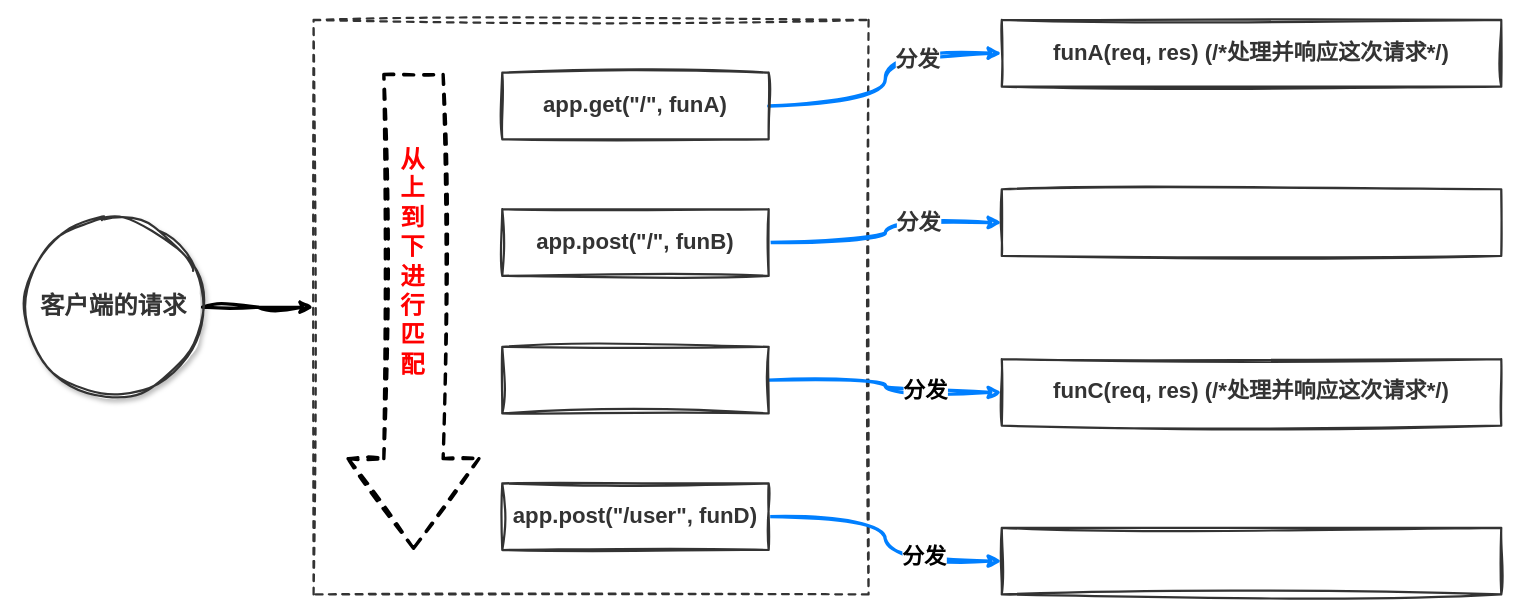
The diagram is 1521 pixels wide and 615 high, and some of its shapes have lost their labels. Each missing label, with the centre of its shape:
app.get("/user", funC): pixel 635 379
funB(req, res) (/*处理并响应这次请求*/): pixel 1251 222
funD(req, res) (/*处理并响应这次请求*/): pixel 1251 560
